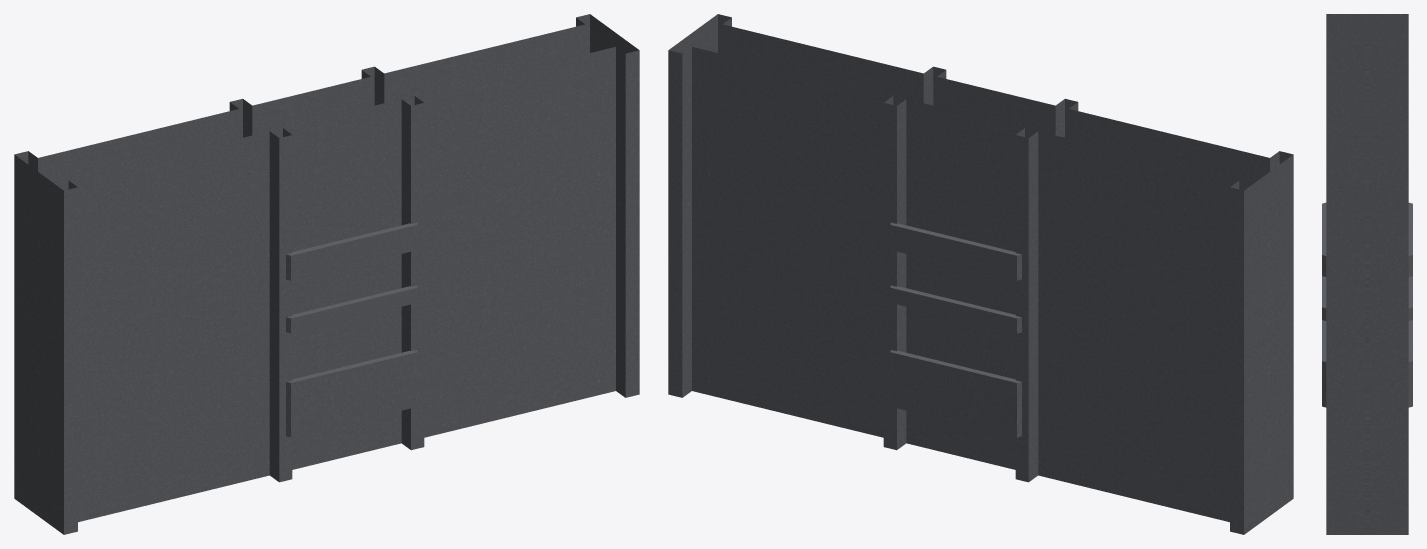
Rendered from Wall3.fbx.
3 views of the same model, side by side, from view 1: azimuth 30°, elevation 25°; view 2: azimuth 150°, elevation 25°; view 3: azimuth 270°, elevation 25° (orthographic). The views are drawn at different scales.
Parts seen in each view (by area): view 1: Wall3, Crossbar9, Crossbar5, Crossbar7; view 2: Wall3, Crossbar8, Crossbar4, Crossbar6; view 3: Wall3, Crossbar8, Crossbar9, Crossbar4, Crossbar5, Crossbar6, Crossbar7.
Part boxes in pixels (<box>): Wall3: <box>14,14,639,534</box>; Crossbar9: <box>286,350,417,437</box>; Crossbar5: <box>286,222,417,280</box>; Crossbar7: <box>286,285,417,333</box>; Wall3: <box>668,14,1293,534</box>; Crossbar8: <box>890,350,1021,437</box>; Crossbar4: <box>890,222,1021,280</box>; Crossbar6: <box>890,285,1021,333</box>; Wall3: <box>1326,14,1408,534</box>; Crossbar8: <box>1408,320,1412,407</box>; Crossbar9: <box>1322,320,1326,407</box>; Crossbar4: <box>1408,202,1412,276</box>; Crossbar5: <box>1322,202,1326,276</box>; Crossbar6: <box>1408,276,1412,320</box>; Crossbar7: <box>1322,276,1326,320</box>.
Size of the model in its own units: 23.97 by 13.7 by 3.93.
